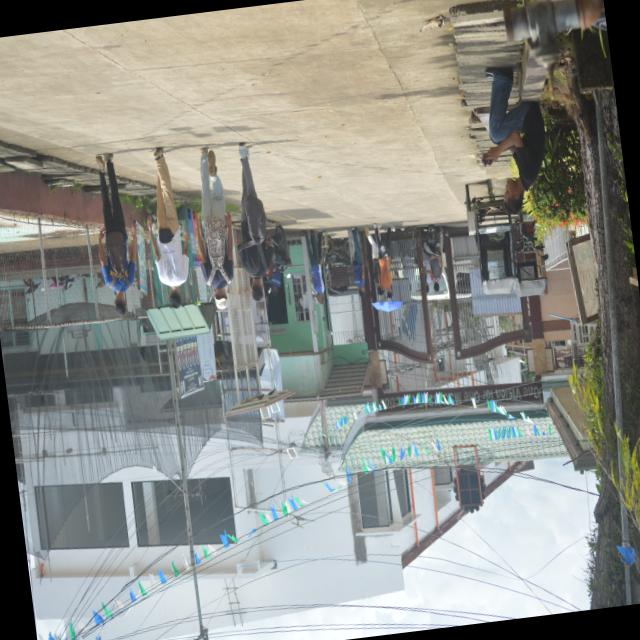person: (482, 67, 544, 213), (146, 147, 188, 307), (95, 153, 136, 315), (196, 147, 232, 309), (238, 142, 255, 240), (302, 229, 323, 303), (373, 223, 394, 297), (364, 224, 382, 294), (350, 226, 364, 296), (268, 269, 280, 293)
